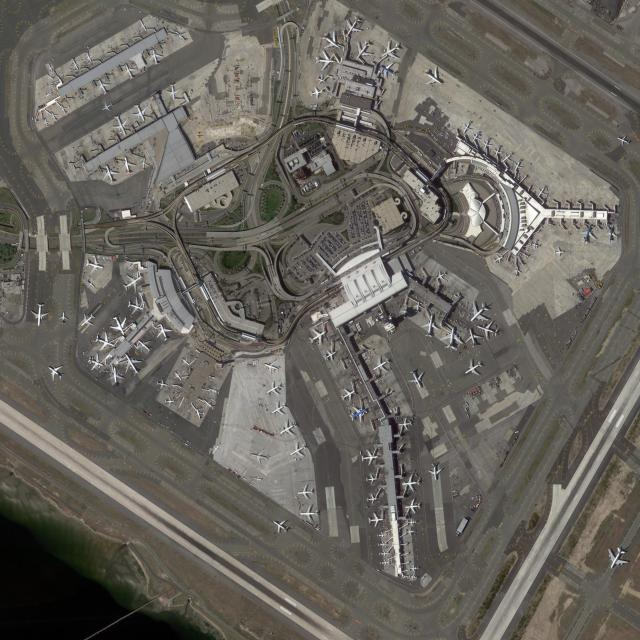plane: (602, 541, 632, 575), (464, 297, 494, 329), (118, 348, 146, 380), (339, 13, 366, 42), (349, 36, 376, 65), (317, 28, 344, 56), (420, 63, 446, 92), (120, 268, 146, 296), (109, 111, 134, 140), (475, 316, 501, 343), (92, 329, 118, 355), (378, 37, 403, 64), (107, 312, 131, 340), (440, 325, 464, 351), (98, 161, 121, 188), (307, 323, 331, 348), (276, 416, 300, 441), (461, 356, 485, 381), (44, 359, 67, 385), (347, 401, 370, 427), (130, 100, 153, 125), (376, 57, 398, 83), (420, 312, 441, 339), (406, 367, 428, 392), (370, 353, 392, 377), (76, 309, 98, 332), (287, 439, 309, 462), (86, 351, 107, 374), (154, 320, 174, 344), (30, 303, 50, 327), (463, 326, 483, 350), (117, 155, 138, 177), (134, 334, 155, 356), (127, 295, 147, 318), (85, 255, 105, 277), (270, 515, 290, 537), (578, 223, 598, 245), (250, 447, 271, 467), (264, 379, 284, 400), (120, 60, 139, 82), (316, 51, 336, 71), (94, 76, 113, 97), (106, 366, 125, 387), (339, 384, 358, 405), (263, 357, 282, 376), (146, 47, 164, 67), (270, 399, 288, 419), (402, 474, 420, 493), (361, 449, 379, 467), (173, 27, 190, 46), (301, 504, 318, 522), (459, 119, 475, 136), (534, 184, 550, 201), (433, 268, 449, 284), (368, 512, 384, 528), (405, 499, 421, 515), (136, 17, 151, 34), (166, 83, 181, 100), (500, 149, 515, 166), (469, 129, 484, 146), (510, 158, 525, 175), (100, 99, 115, 115), (298, 484, 313, 500), (323, 347, 338, 363), (428, 463, 442, 480), (616, 133, 631, 148), (309, 85, 324, 100), (69, 56, 83, 72), (605, 226, 618, 243), (201, 397, 216, 411), (480, 137, 494, 152), (83, 50, 96, 65), (210, 441, 223, 455), (399, 418, 413, 431), (492, 144, 504, 159), (139, 156, 150, 172), (492, 253, 505, 266), (193, 407, 205, 421), (180, 355, 192, 369), (172, 369, 184, 383), (85, 278, 97, 291), (157, 377, 169, 390), (315, 73, 327, 86), (208, 385, 221, 396), (49, 110, 60, 123), (400, 307, 411, 319), (366, 474, 378, 485), (59, 312, 69, 325), (529, 239, 540, 250), (553, 247, 564, 258), (367, 494, 378, 505), (413, 301, 423, 313), (46, 62, 56, 73), (60, 104, 69, 115), (513, 266, 522, 277), (165, 396, 174, 406), (253, 475, 264, 483), (405, 528, 416, 536), (46, 72, 55, 81), (409, 572, 418, 581), (409, 564, 419, 572), (379, 550, 389, 558), (380, 559, 390, 567), (377, 531, 387, 539), (407, 519, 416, 527), (378, 541, 388, 548), (45, 91, 53, 99), (43, 118, 50, 127), (46, 82, 54, 89)
